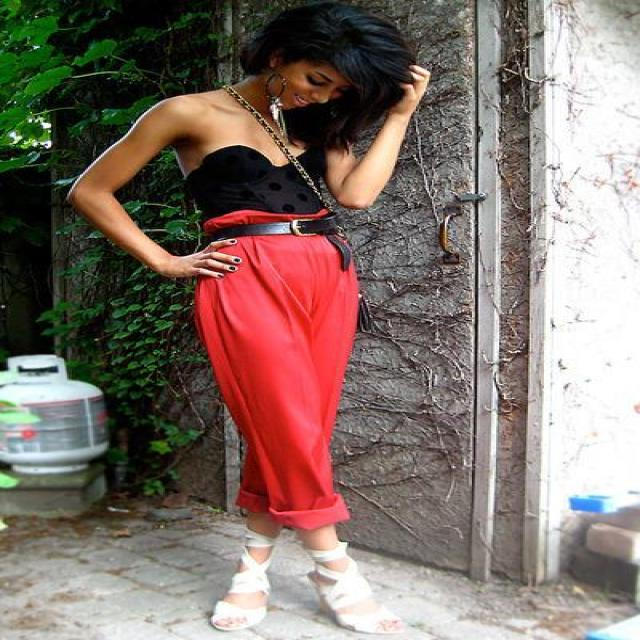pants: (195, 210, 365, 531)
shirt: (190, 145, 332, 217)
shoe: (216, 550, 392, 632)
